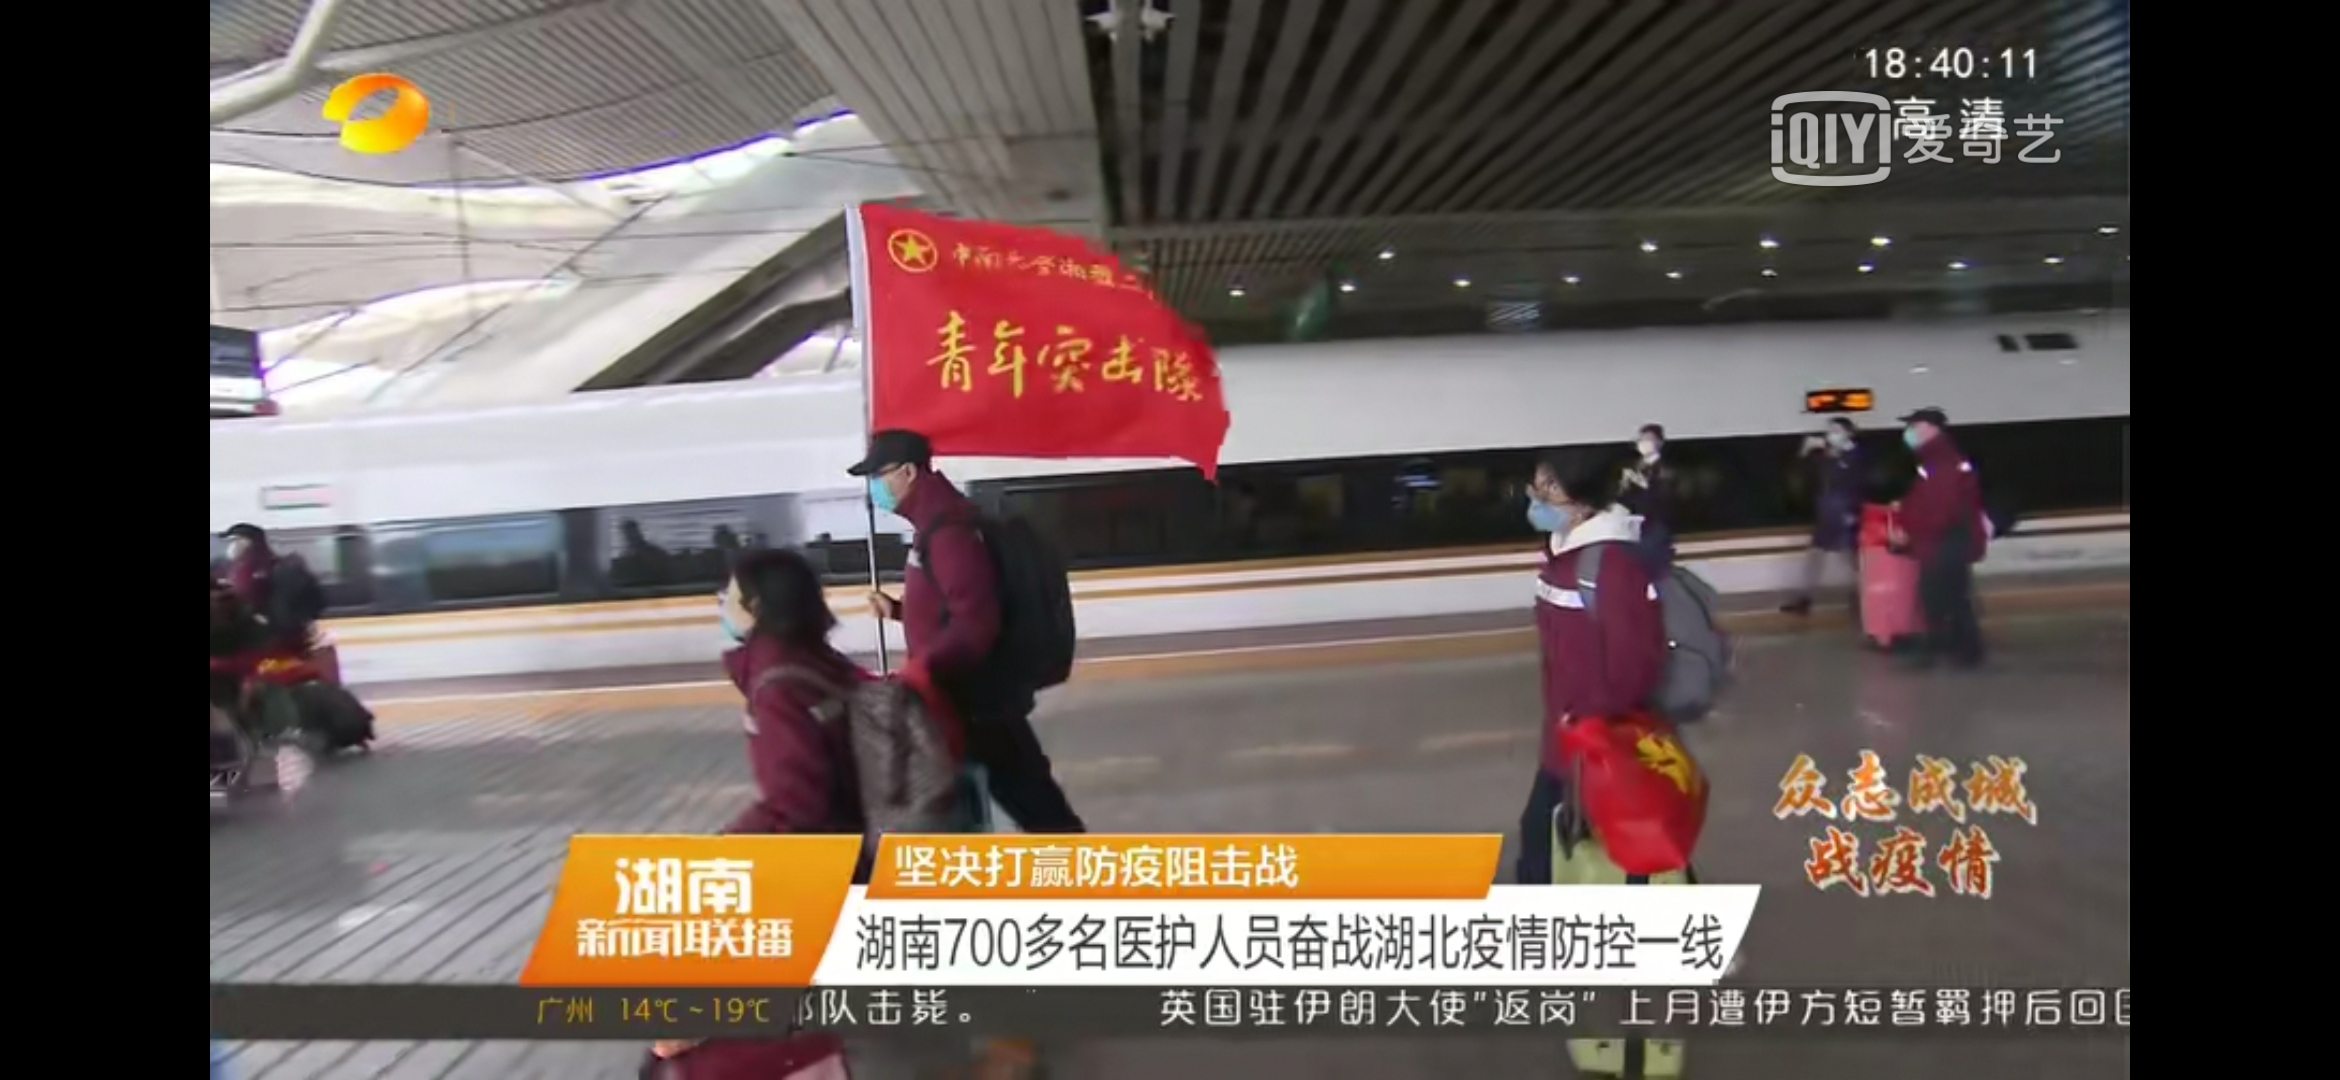correctlyWear: (1522, 482, 1583, 539), (715, 577, 757, 643), (867, 459, 916, 515), (1898, 416, 1936, 449), (225, 533, 251, 562), (1636, 433, 1661, 459), (1828, 424, 1851, 450)
